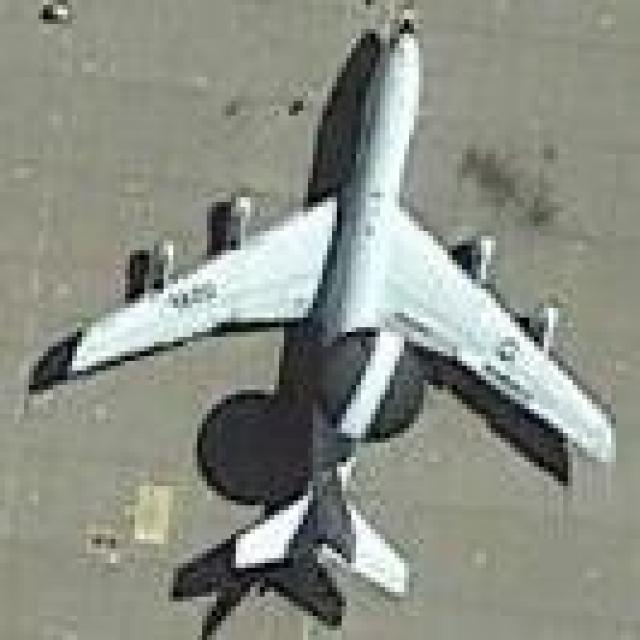E-3_TopDown: (24, 10, 616, 635)
